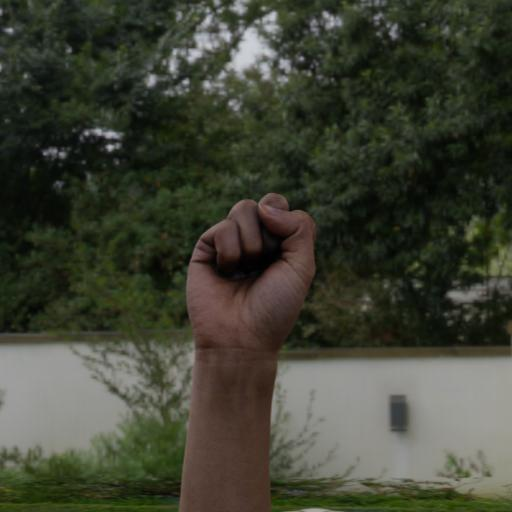S: (159, 147, 350, 416)
